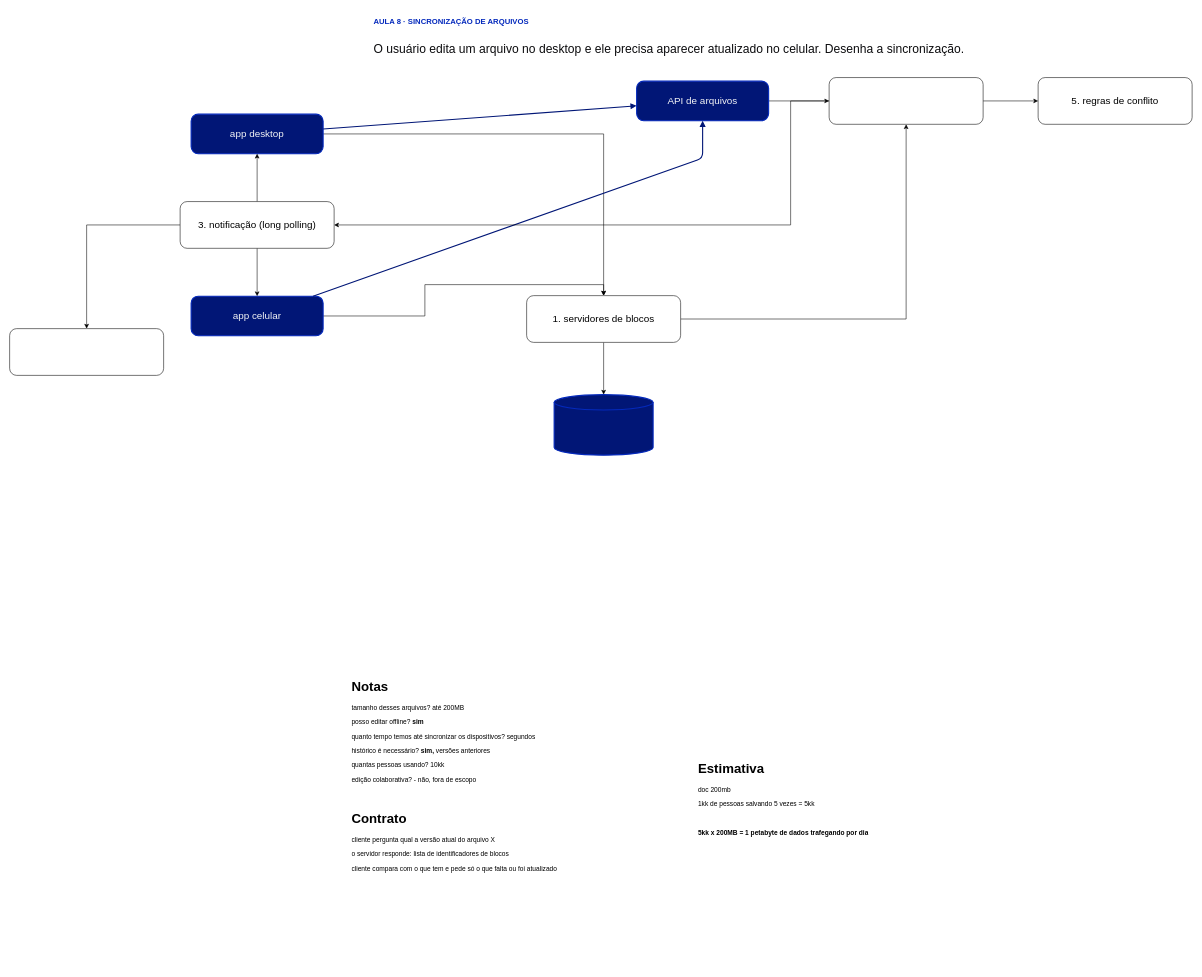
The diagram is 1202 pixels wide and 977 high, and some of its shapes have lost their labels. Each missing label, with the centre of its shape:
"2. metadados" goes at point 906,100.
"4. fila offline" goes at point 86,351.
"storage de blocos" goes at point 603,424.
